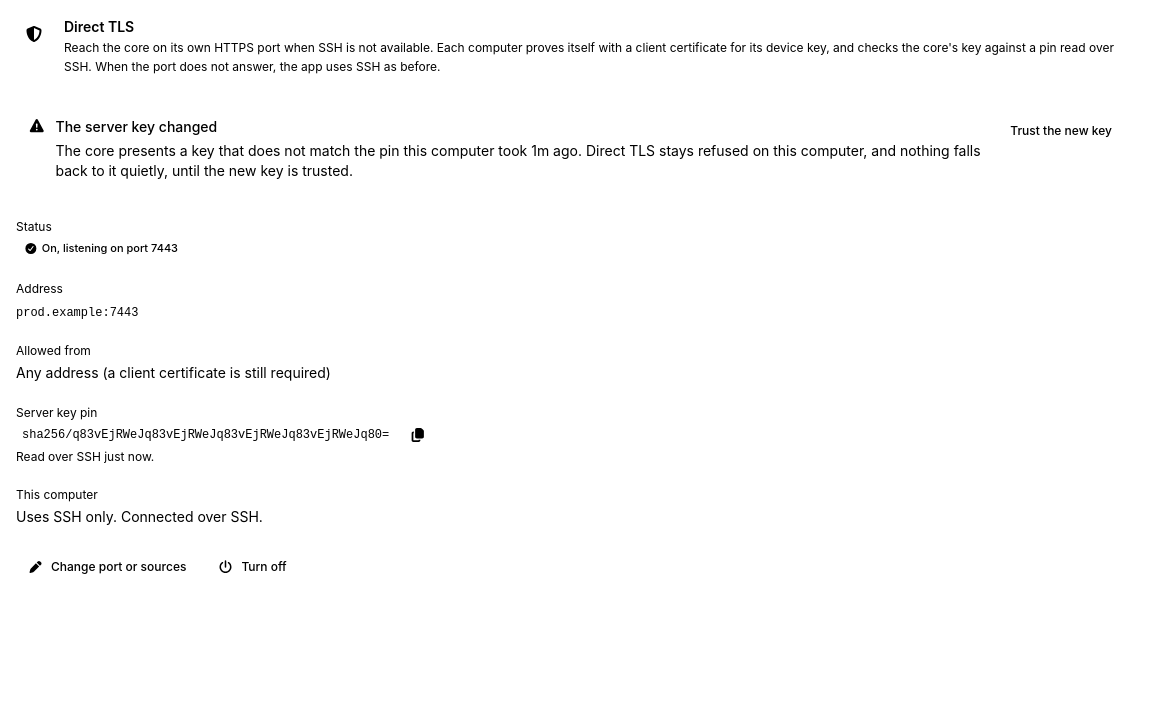
Test: DirectTlsCard › warns about a key that changed and trusts the new one only when asked
Expected: the text "The server key changed" is shown, x1=56 y1=118 x2=217 y2=134
Expected: the text "nothing falls back to it quietly" is shown, x1=56 y1=142 x2=981 y2=178
Click the button "Trust the new key" at coordinates (1061, 130), box x1=998 y1=116 x2=1124 y2=144
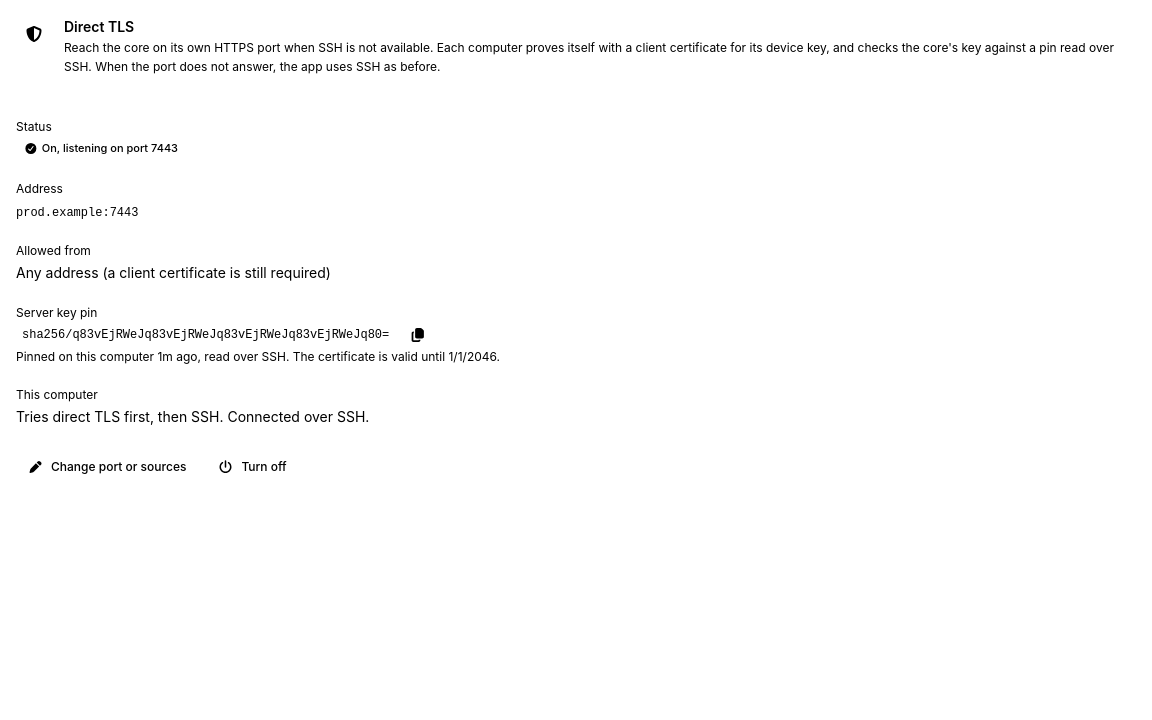
Result: the message "The server key changed The core presents a key that does not match the pin this" is gone
